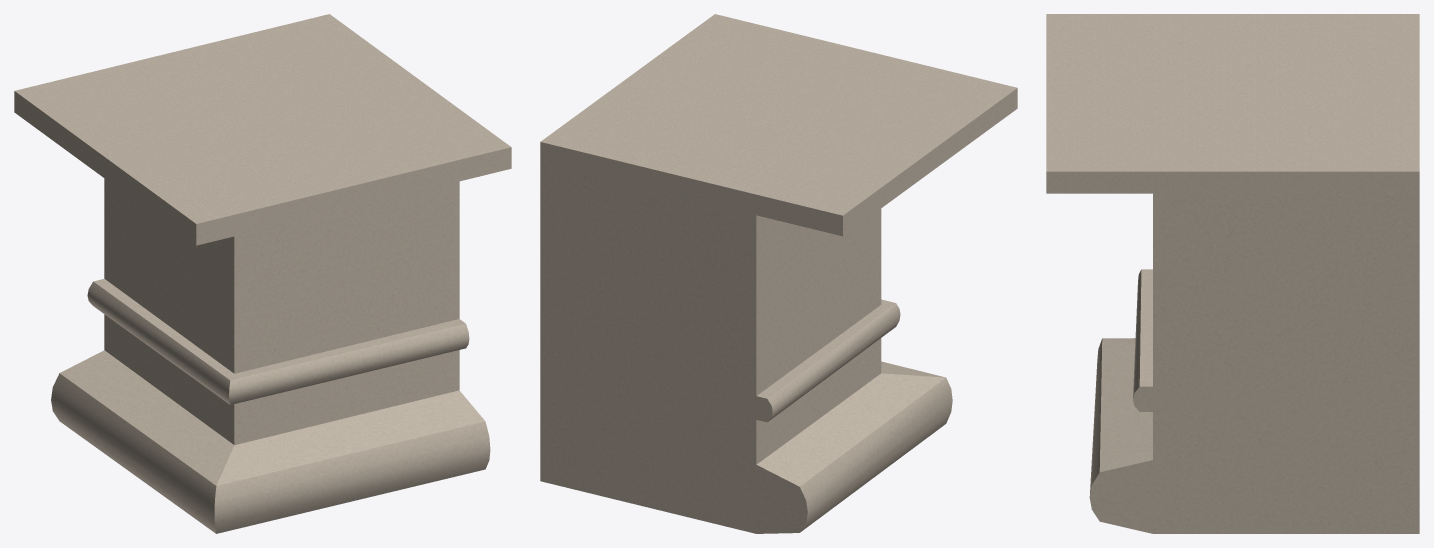
Rendered from corner.fbx.
3 renders of one model, left to right at view 1: azimuth 30°, elevation 25°; view 2: azimuth 150°, elevation 25°; view 3: azimuth 270°, elevation 25°, orthographic. The views are drawn at different scales.
Parts seen in each view (by area): view 1: corner; view 2: corner; view 3: corner.
Boxes of the visible parts, x1,y1,x2,y2 form: corner: (14, 14, 511, 533); corner: (540, 14, 1017, 533); corner: (1046, 14, 1419, 533).
Size of the model in its own units: 0.7 by 0.75 by 0.7.
